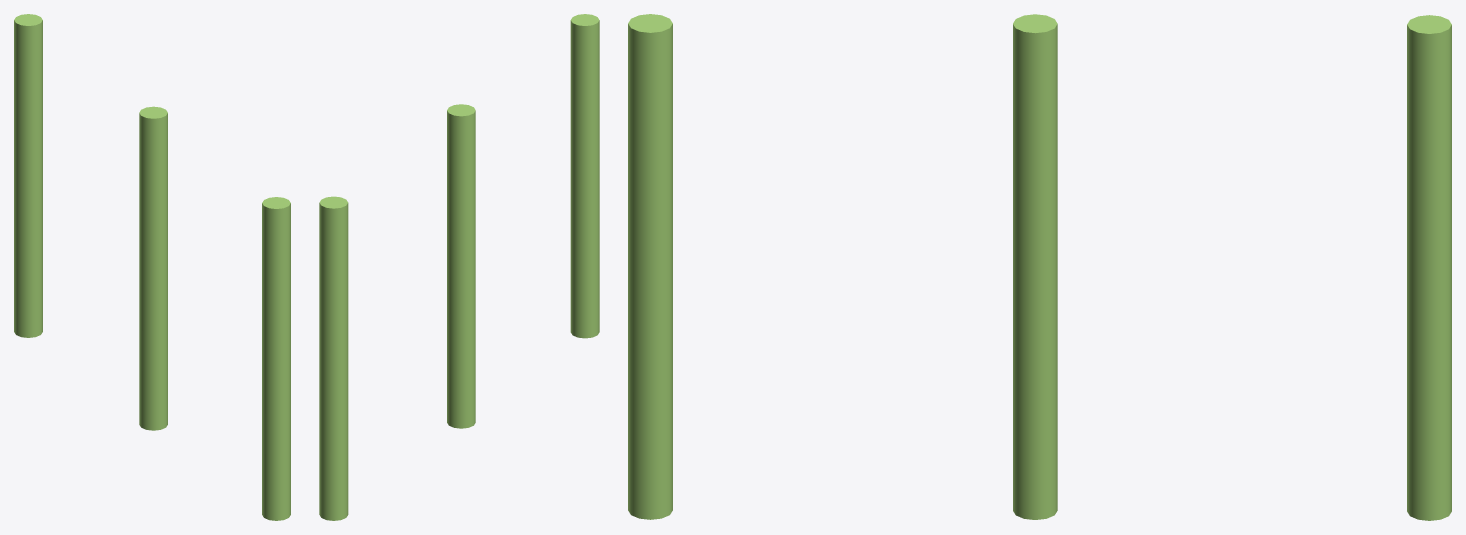
The model's file is Wall_Arc_04C_Lod0.fbx.
3 views of the same model, side by side, from view 1: azimuth 30°, elevation 25°; view 2: azimuth 150°, elevation 25°; view 3: azimuth 270°, elevation 25° (orthographic). The views are drawn at different scales.
Visible parts, largest first — view 1: Wall_Arc_04C_Lod0; view 2: Wall_Arc_04C_Lod0; view 3: Wall_Arc_04C_Lod0.
Boxes of the visible parts, x1,y1,x2,y2 form: Wall_Arc_04C_Lod0: [14, 14, 290, 520]; Wall_Arc_04C_Lod0: [319, 14, 599, 520]; Wall_Arc_04C_Lod0: [628, 14, 1451, 520].
Size of the model in its own units: 24.95 by 282 by 433.
